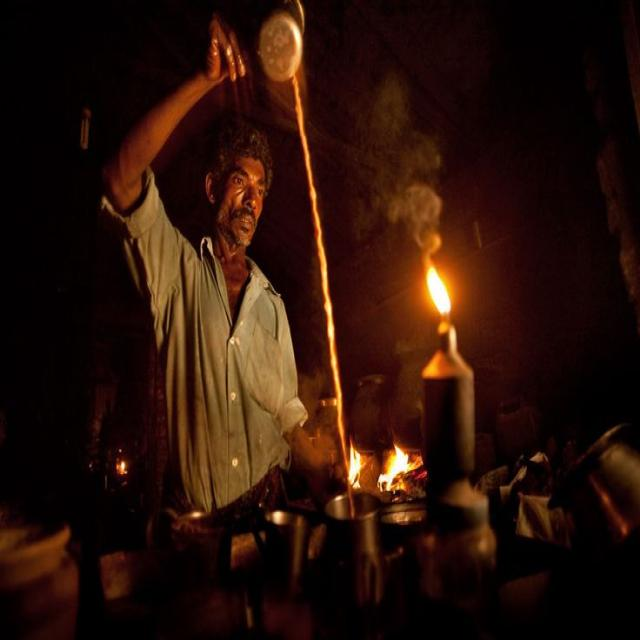fire: (379, 444, 414, 491), (425, 266, 451, 318)
